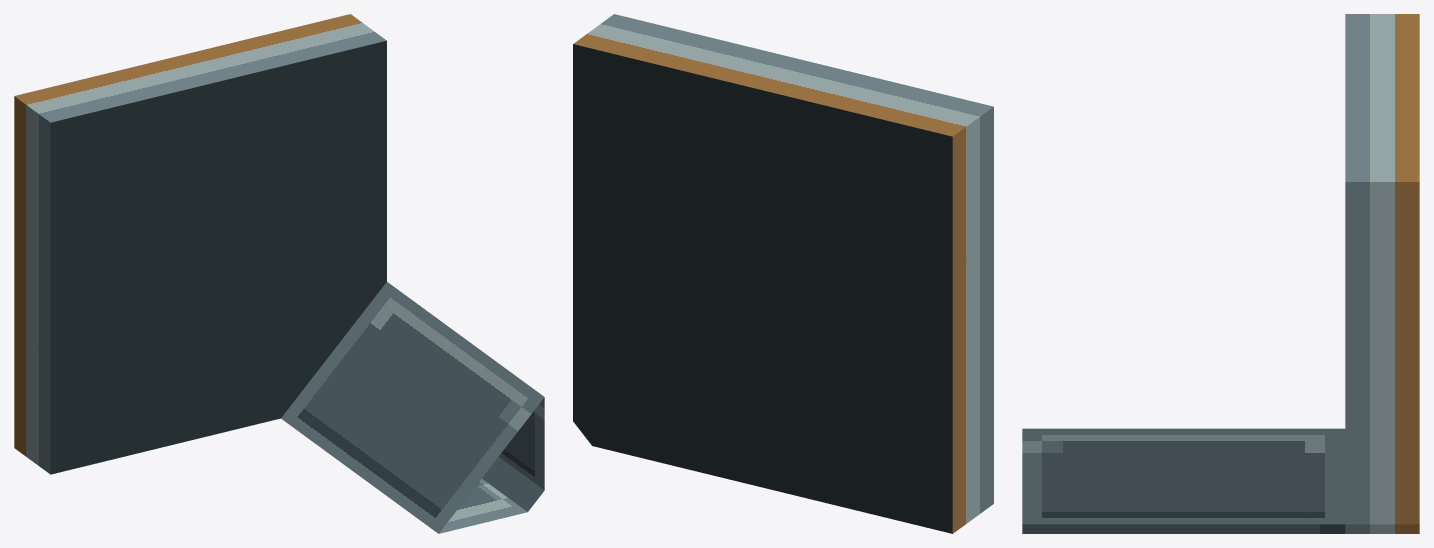
Rendered from casing_d7_front_x2_y-2.obj.
The picture shows the model from 3 angles, left to right: view 1: azimuth 30°, elevation 25°; view 2: azimuth 150°, elevation 25°; view 3: azimuth 270°, elevation 25°; orthographic projection. The views are drawn at different scales.
Parts seen in each view (by area): view 1: d7_front_x2_y-2; view 2: d7_front_x2_y-2; view 3: d7_front_x2_y-2.
Part boxes in pixels (x1,y1,x2,y2): d7_front_x2_y-2: (14, 14, 544, 533); d7_front_x2_y-2: (573, 14, 993, 533); d7_front_x2_y-2: (1022, 14, 1419, 533).
Bounding box in the file's own units: 1 × 1 × 1.
